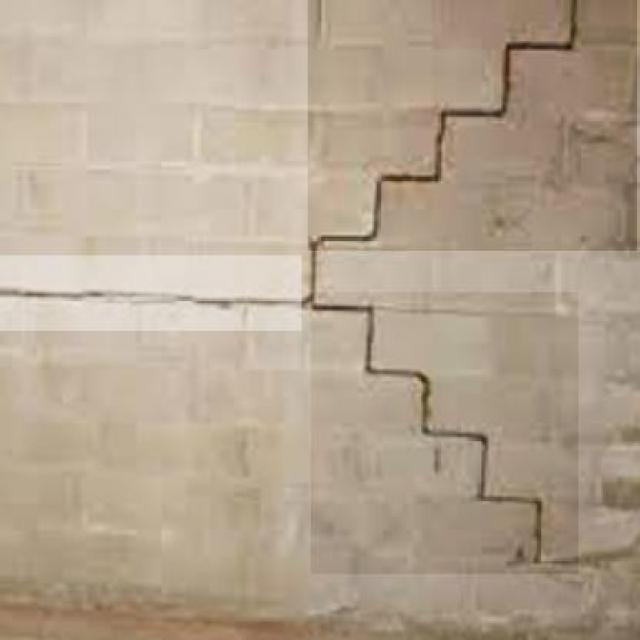Crack: (303, 0, 638, 254), (317, 275, 579, 572), (4, 275, 312, 319)
